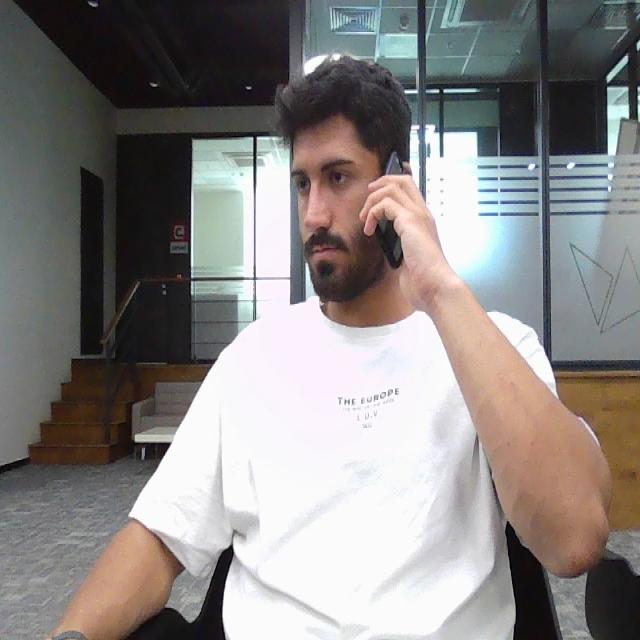phone: (369, 153, 413, 271)
